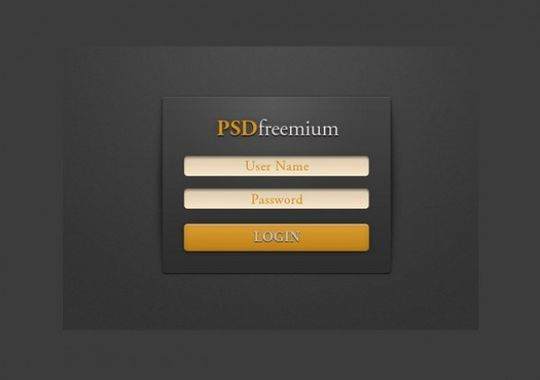_form_: (147, 84, 406, 282)
button: (182, 222, 370, 253)
field: (182, 187, 369, 211), (184, 154, 370, 177)
